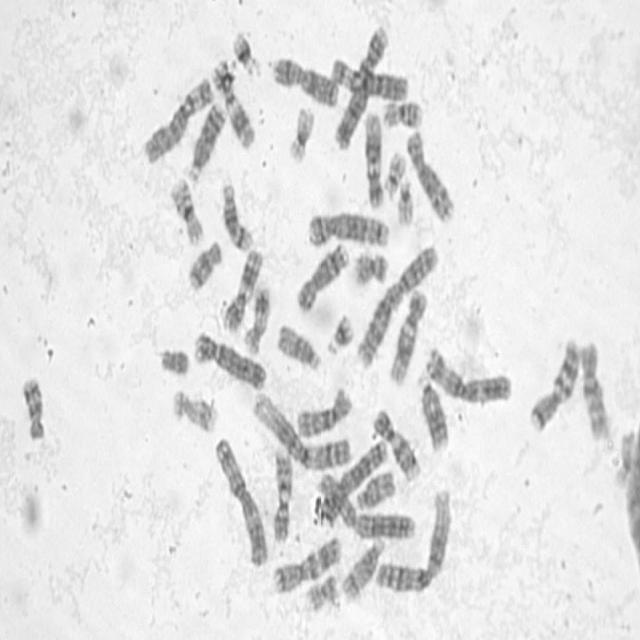A1: (372, 482, 454, 596), (249, 386, 353, 472)
A2: (354, 238, 441, 371), (313, 466, 418, 542)
A3: (212, 430, 270, 569), (422, 341, 514, 405)
B4: (330, 20, 390, 152), (190, 326, 268, 392)
B5: (318, 433, 389, 528), (304, 205, 391, 250)
C10: (577, 333, 614, 444), (293, 381, 353, 441)
C11: (208, 52, 258, 152), (221, 243, 265, 334)
C12: (386, 283, 428, 387), (362, 107, 386, 209)
C6: (140, 70, 215, 166), (326, 50, 411, 103)
C7: (526, 331, 582, 435), (271, 531, 344, 595)
C8: (404, 123, 457, 224), (294, 236, 352, 314)
C9: (370, 402, 422, 482), (269, 442, 294, 544)
D13: (185, 96, 228, 184), (414, 367, 451, 453)
D14: (340, 531, 386, 603), (218, 176, 256, 253)
D15: (274, 316, 323, 374), (352, 463, 397, 512)
E16: (168, 171, 205, 247), (380, 94, 424, 130)
E17: (170, 383, 220, 435), (240, 280, 272, 356)
E18: (185, 232, 224, 292), (19, 368, 47, 443)
F19: (284, 99, 316, 165), (610, 425, 636, 491)
F20: (350, 245, 390, 287), (303, 568, 340, 613)
G21: (229, 24, 263, 79), (324, 307, 356, 357)
G22: (380, 144, 408, 197), (394, 172, 415, 227)
X: (268, 50, 340, 109)
Y: (156, 342, 192, 378)
